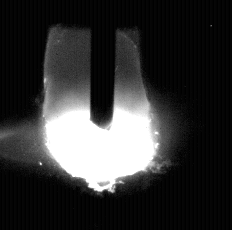arame: (90, 0, 115, 131)
poca: (45, 0, 154, 230)
